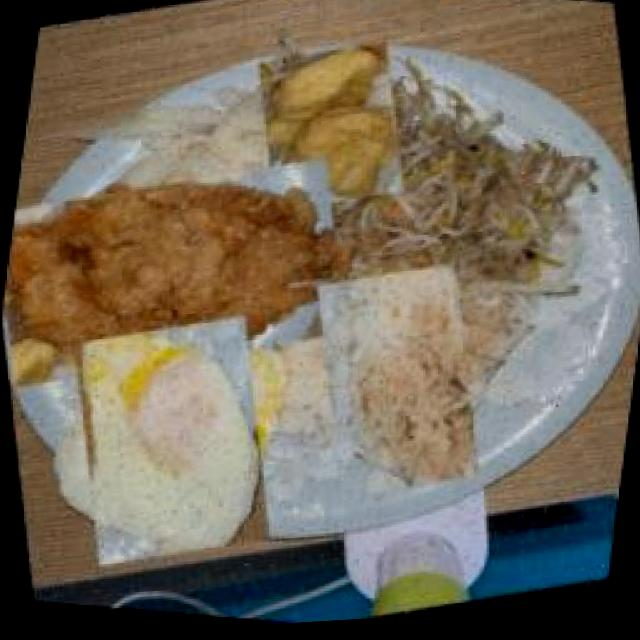chicken_nuggets: (238, 25, 424, 234)
fried_chicken: (1, 115, 368, 430)
fried_eggs: (32, 299, 306, 585)
mung_bean_sprouts: (344, 93, 580, 339)
rice: (275, 259, 519, 513)
